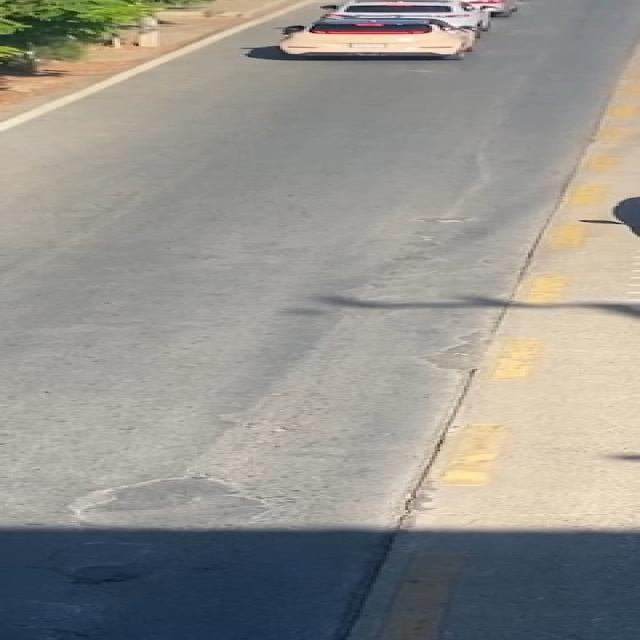car: (259, 15, 503, 63)
